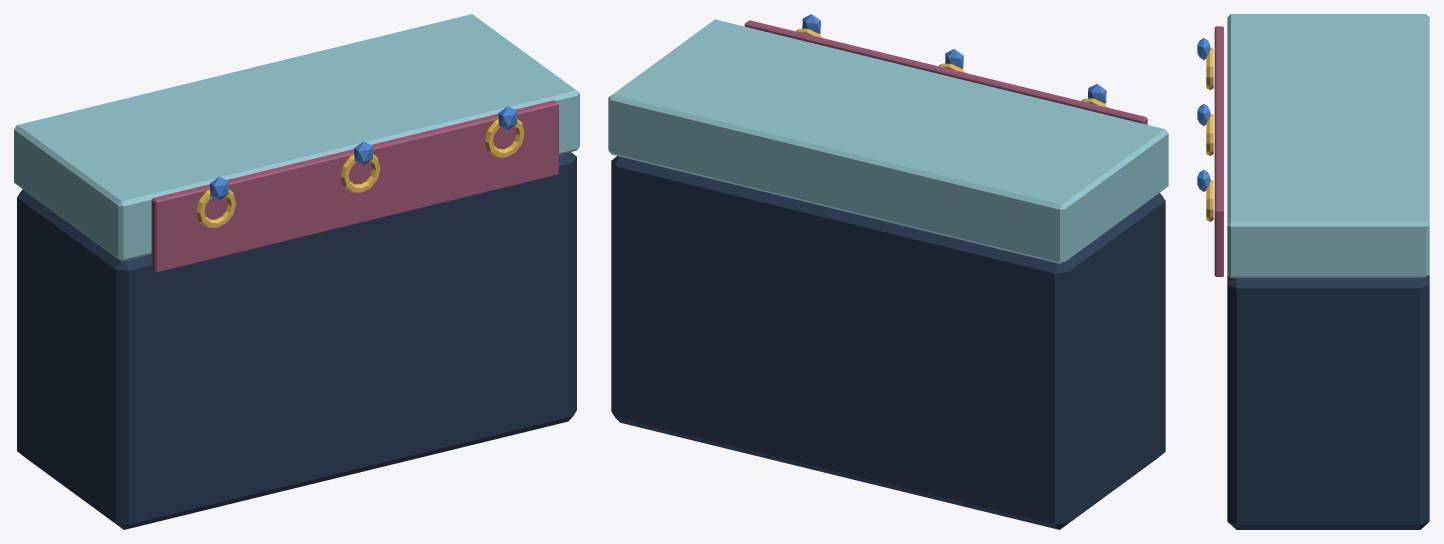
The model's file is Prop_JewelryDisplay.fbx.
The picture shows the model from 3 angles, left to right: view 1: azimuth 30°, elevation 25°; view 2: azimuth 150°, elevation 25°; view 3: azimuth 270°, elevation 25°; orthographic projection. The views are drawn at different scales.
Visible parts, largest first — view 1: CabinetBase, DisplayTop, DisplayPad, JewelryRing, JewelryRing.002, JewelryRing.001; view 2: CabinetBase, DisplayTop, DisplayPad; view 3: DisplayTop, CabinetBase, DisplayPad, JewelryRing.001, JewelryRing.002, JewelryRing.
Boxes of the visible parts, bbox=[...] form: CabinetBase: bbox=[17, 152, 576, 529]; DisplayTop: bbox=[14, 14, 579, 261]; DisplayPad: bbox=[151, 100, 558, 272]; JewelryRing: bbox=[196, 189, 235, 227]; JewelryRing.002: bbox=[484, 119, 524, 157]; JewelryRing.001: bbox=[340, 154, 380, 192]; CabinetBase: bbox=[611, 156, 1165, 529]; DisplayTop: bbox=[608, 19, 1168, 264]; DisplayPad: bbox=[744, 20, 1147, 124]; DisplayTop: bbox=[1227, 14, 1429, 277]; CabinetBase: bbox=[1227, 275, 1429, 529]; DisplayPad: bbox=[1214, 26, 1223, 276]; JewelryRing.001: bbox=[1206, 113, 1213, 155]; JewelryRing.002: bbox=[1206, 179, 1213, 221]; JewelryRing: bbox=[1206, 48, 1213, 89].
Bounding box in the file's own units: 1.6 × 1.15 × 0.7463.
